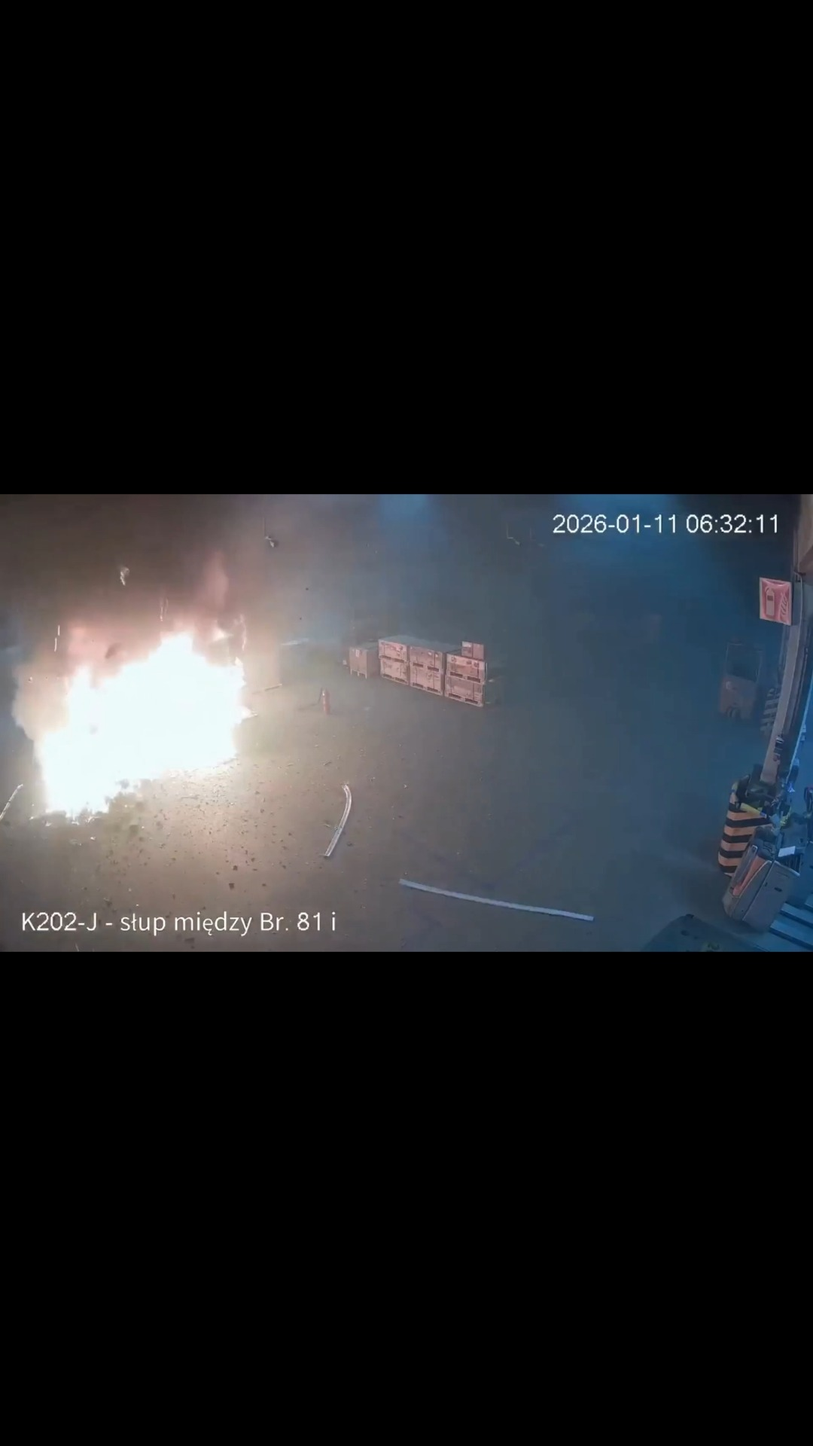fire: (26, 615, 251, 826)
smoke: (1, 501, 300, 737)
